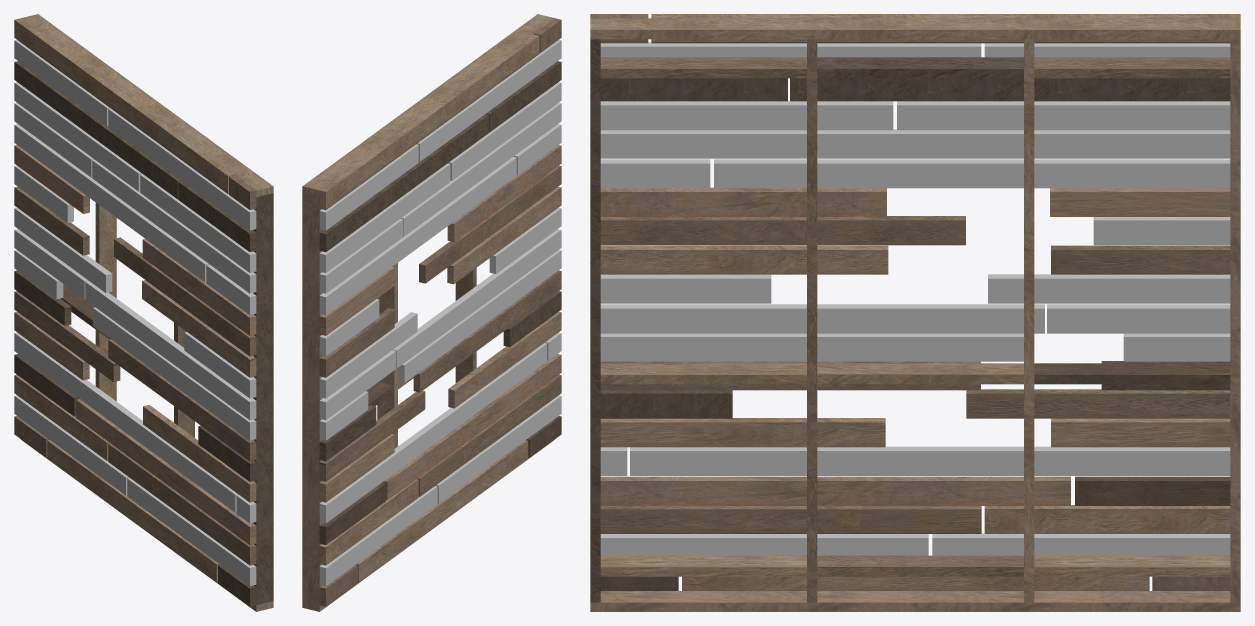
Rendered from WoodWallD.fbx.
3 renders of one model, left to right at view 1: azimuth 30°, elevation 25°; view 2: azimuth 150°, elevation 25°; view 3: azimuth 270°, elevation 25°, orthographic. The views are drawn at different scales.
Visible parts, largest first — view 1: WoodWallD; view 2: WoodWallD; view 3: WoodWallD.
Boxes of the visible parts, left/top/right/bottom form: WoodWallD: left=14, top=14, right=273, bottom=611; WoodWallD: left=302, top=14, right=561, bottom=611; WoodWallD: left=590, top=14, right=1240, bottom=611.
Size of the model in its own units: 22 by 374 by 379.
